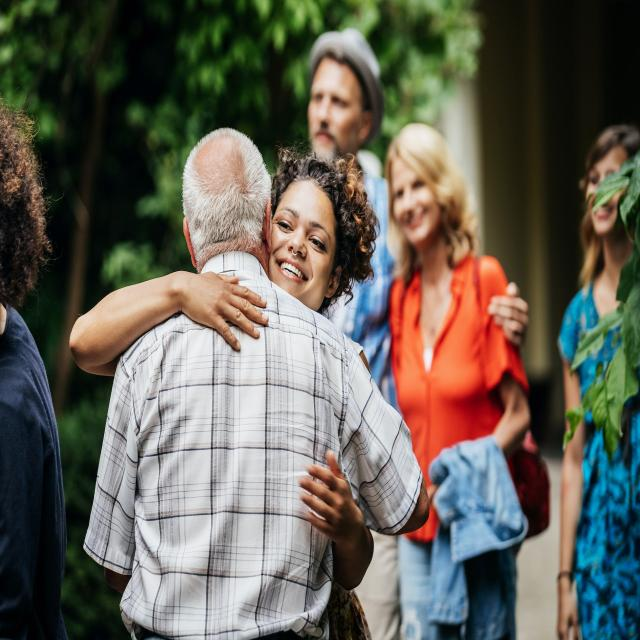adult: (96, 124, 427, 640), (383, 120, 538, 640), (303, 27, 396, 404), (269, 143, 373, 312)
